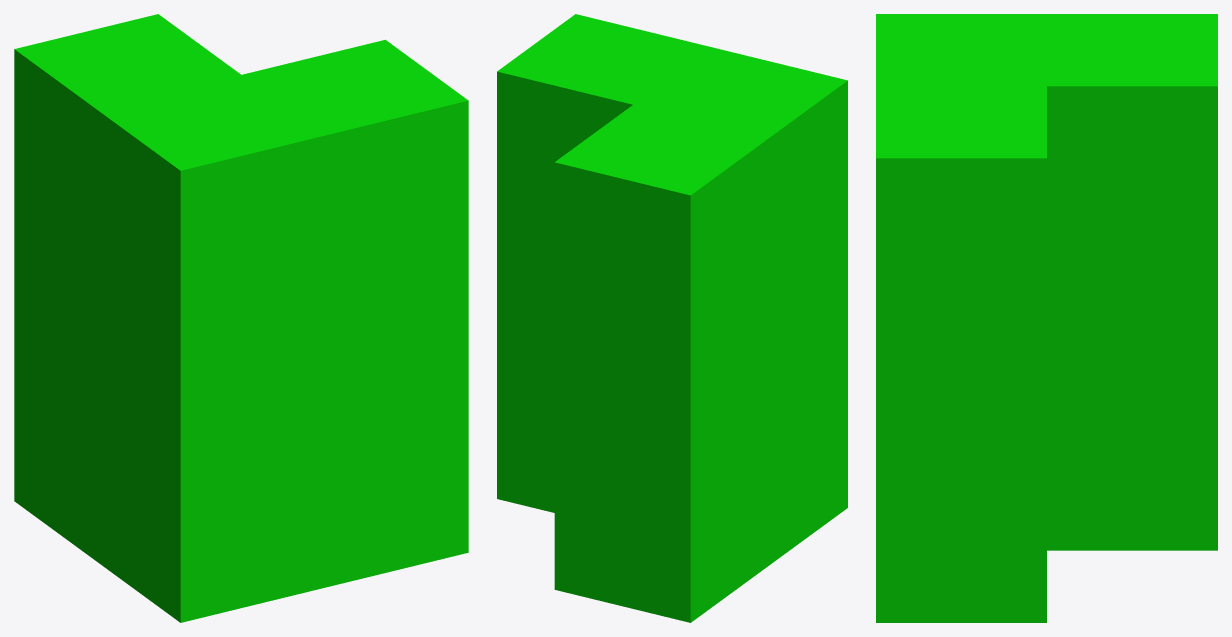
The model's file is wall_edge.fbx.
The picture shows the model from 3 angles, left to right: view 1: azimuth 30°, elevation 25°; view 2: azimuth 150°, elevation 25°; view 3: azimuth 270°, elevation 25°; orthographic projection. The views are drawn at different scales.
Parts seen in each view (by area): view 1: wall_edge; view 2: wall_edge; view 3: wall_edge.
Boxes of the visible parts, x1,y1,x2,y2 form: wall_edge: (14, 14, 468, 622); wall_edge: (497, 14, 847, 622); wall_edge: (876, 14, 1217, 622).
Bounding box in the file's own units: 2 × 3 × 2.
